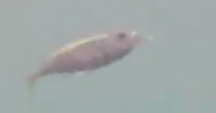smallfish: (13, 24, 154, 97)
